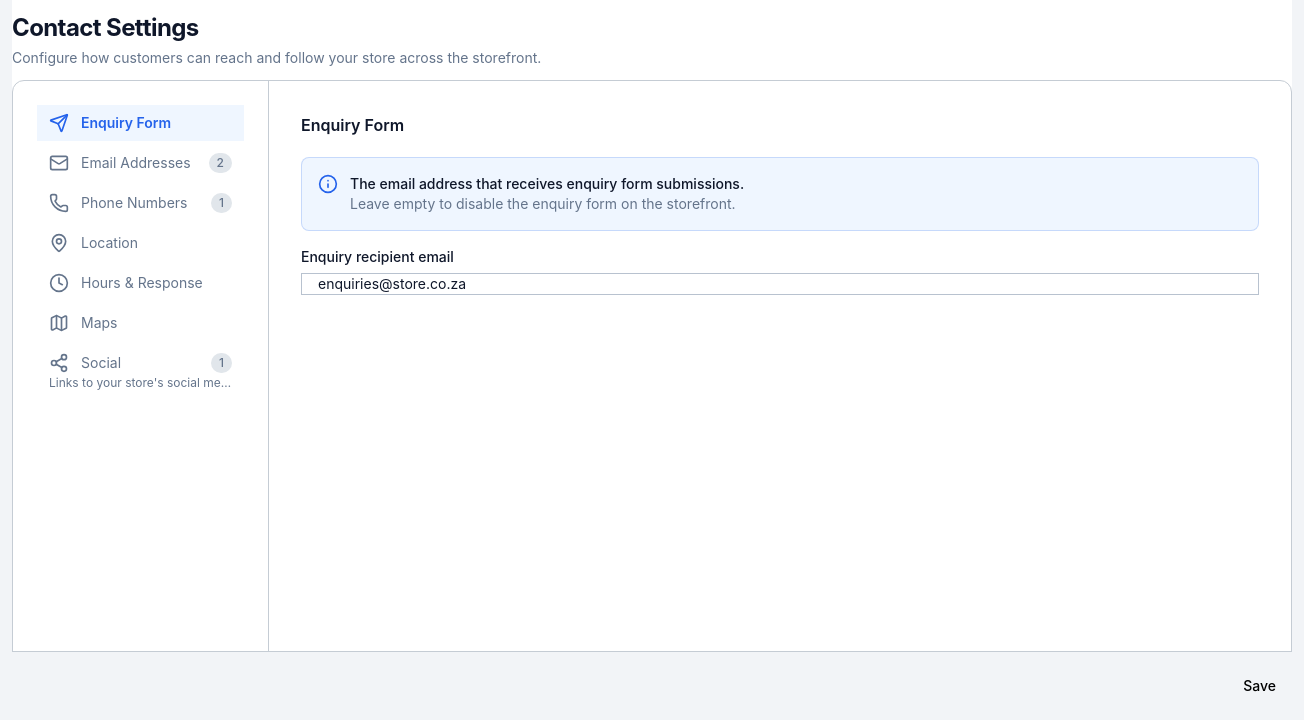
Test case: ContactEditorPage › editor loads existing values once each section is selected › shows Email Addresses fields once that section is selected
The image size is (1304, 720).
Expected: the field showing "enquiries@store.co.za" is shown, x1=301 y1=273 x2=1259 y2=295
Step 1. Click the tab "Email Addresses 2" → [140, 163], box x1=37 y1=145 x2=244 y2=181
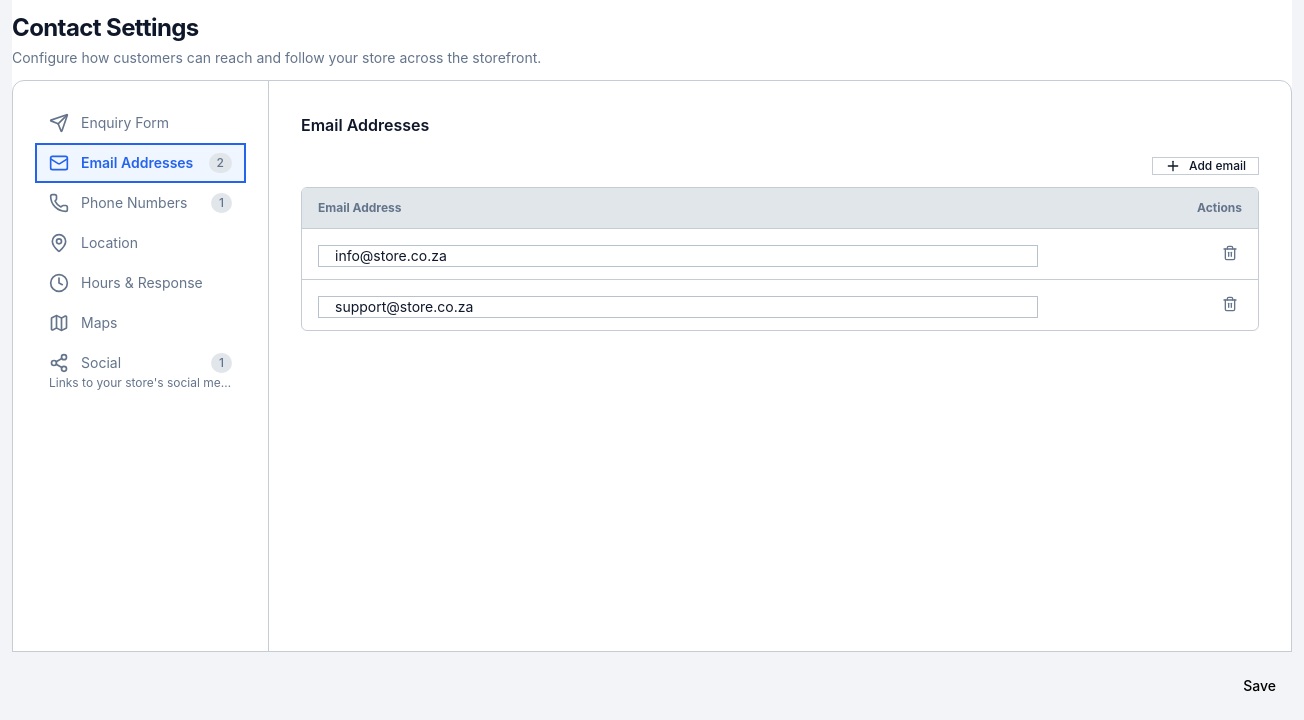
Now the field showing "info@store.co.za" is shown, box x1=318 y1=245 x2=1038 y2=267
Now the field showing "support@store.co.za" is shown, box x1=318 y1=296 x2=1038 y2=318
